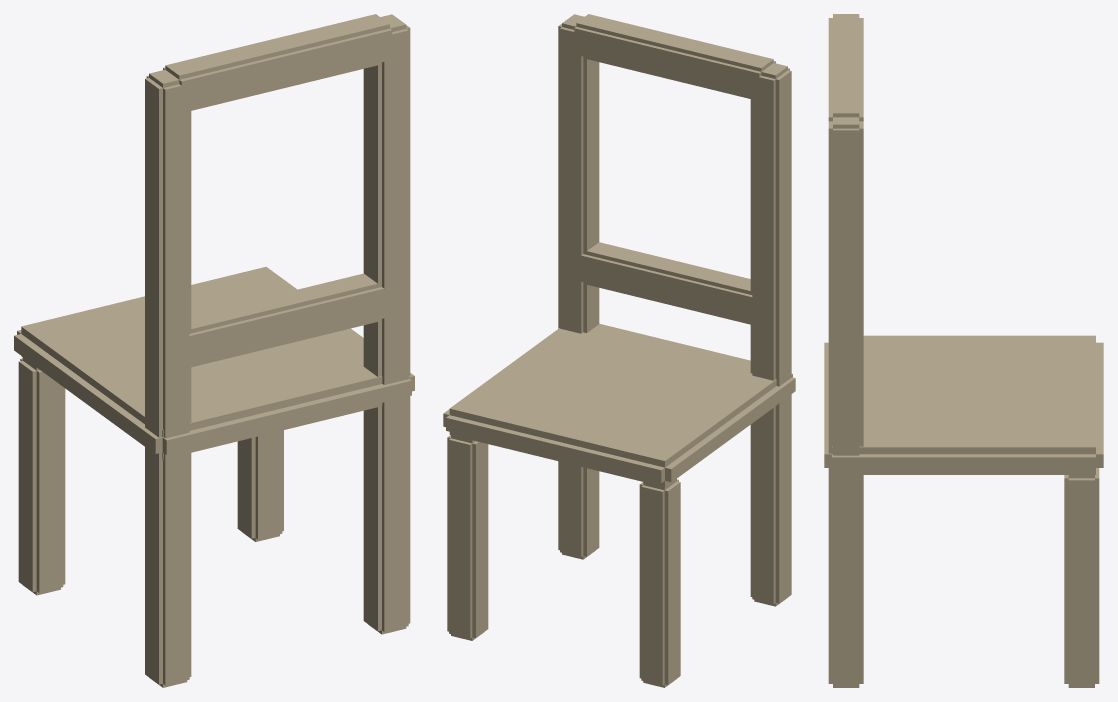
File: boreal_chair_v0.glb
The picture shows the model from 3 angles, left to right: view 1: azimuth 30°, elevation 25°; view 2: azimuth 150°, elevation 25°; view 3: azimuth 270°, elevation 25°; orthographic projection. The views are drawn at different scales.
Parts seen in each view (by area): view 1: boreal_chair_v0; view 2: boreal_chair_v0; view 3: boreal_chair_v0.
Part boxes in pixels (x1=…): boreal_chair_v0: x1=14, y1=14, x2=414, y2=687; boreal_chair_v0: x1=443, y1=14, x2=795, y2=687; boreal_chair_v0: x1=824, y1=14, x2=1103, y2=687.
Bounding box in the file's own units: 0.64 × 1.43 × 0.64.
